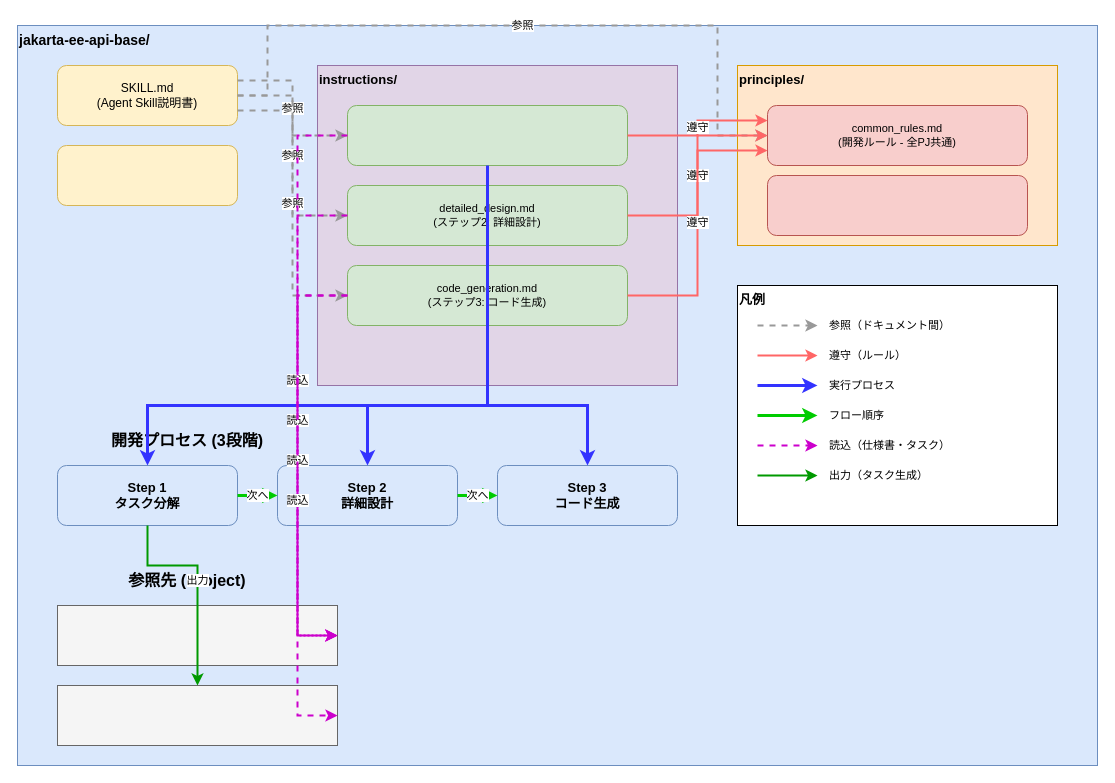
The diagram is 1115 pixels wide and 783 high, and some of its shapes have lost their labels. The box of each missing label's shape, as (x1, y1, x2, y2) in pixels:
README.md (クイックスタート): (56, 144, 238, 206)
security.md (セキュリティ標準): (766, 174, 1028, 236)
task_breakdown.md (ステップ1: タスク分解): (346, 104, 628, 166)
{project_root}/specs/ (プロジェクト仕様書): (56, 604, 338, 666)
{project_root}/tasks/ (プロジェクトタスク): (56, 684, 338, 746)
